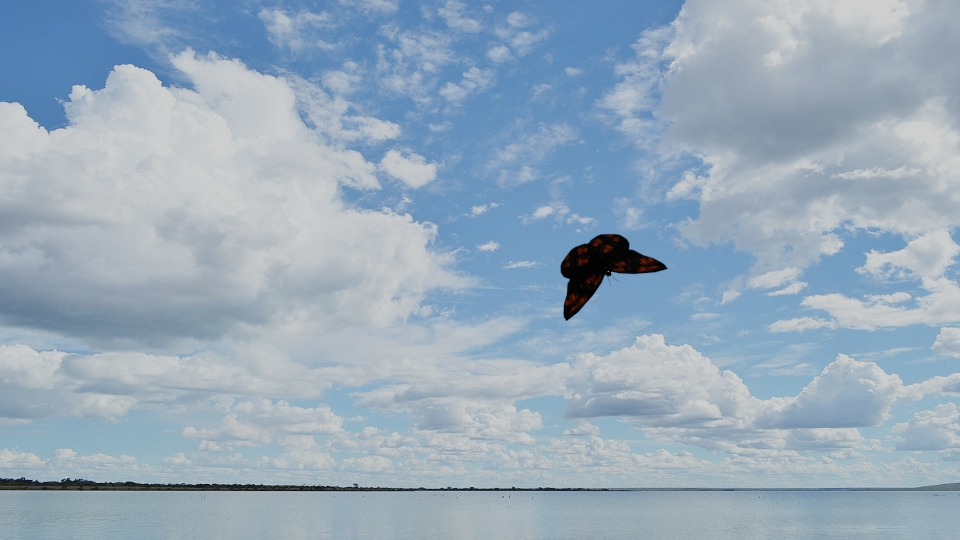insect: (559, 233, 667, 325)
